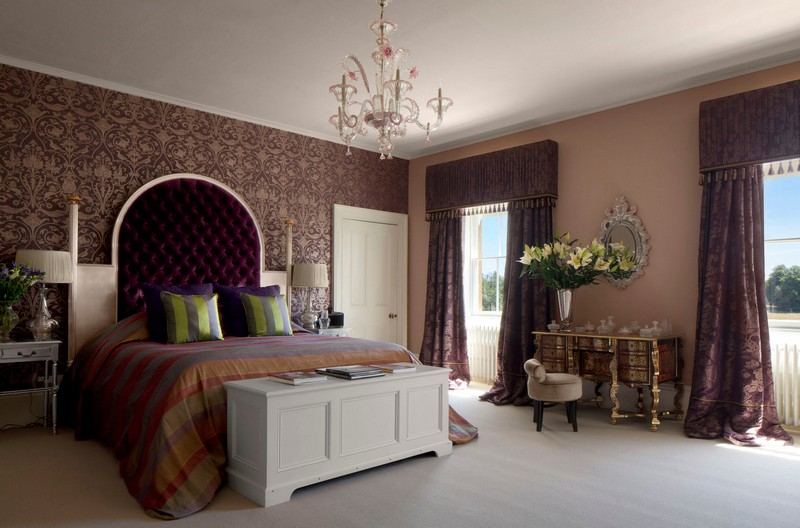bed: (71, 187, 457, 506)
chair: (524, 357, 583, 435)
door: (336, 208, 408, 351)
lamp: (12, 247, 75, 343), (292, 260, 329, 331)
table: (538, 322, 683, 431), (1, 339, 59, 439)
